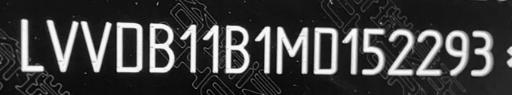letter: (10, 18, 46, 79), (270, 24, 310, 77), (43, 16, 79, 73), (112, 16, 144, 75), (80, 16, 112, 73), (221, 21, 253, 76), (145, 17, 175, 74), (312, 23, 344, 76), (414, 24, 444, 77), (358, 24, 388, 75), (250, 20, 278, 73), (386, 25, 414, 78), (472, 25, 498, 82), (178, 19, 202, 80), (198, 22, 222, 77), (446, 27, 470, 78), (340, 26, 360, 77)
